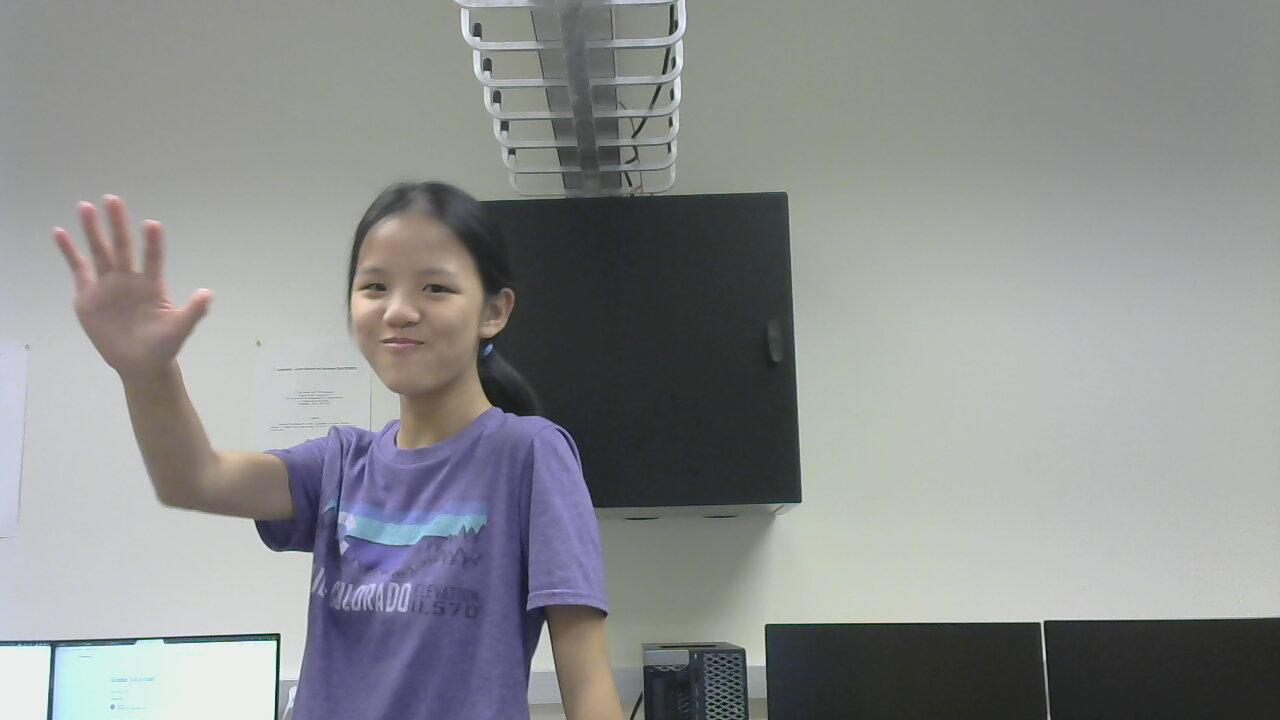hands: (41, 192, 219, 380)
